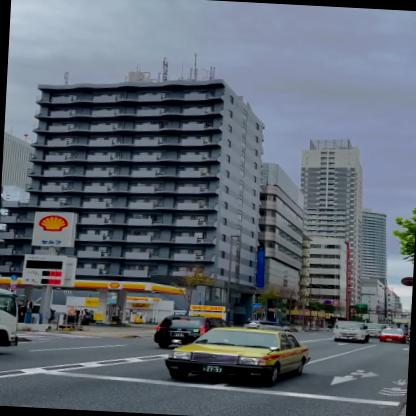car: (166, 324, 312, 392), (152, 314, 230, 353), (242, 320, 292, 333), (378, 328, 405, 343)
truck: (331, 319, 370, 343)
